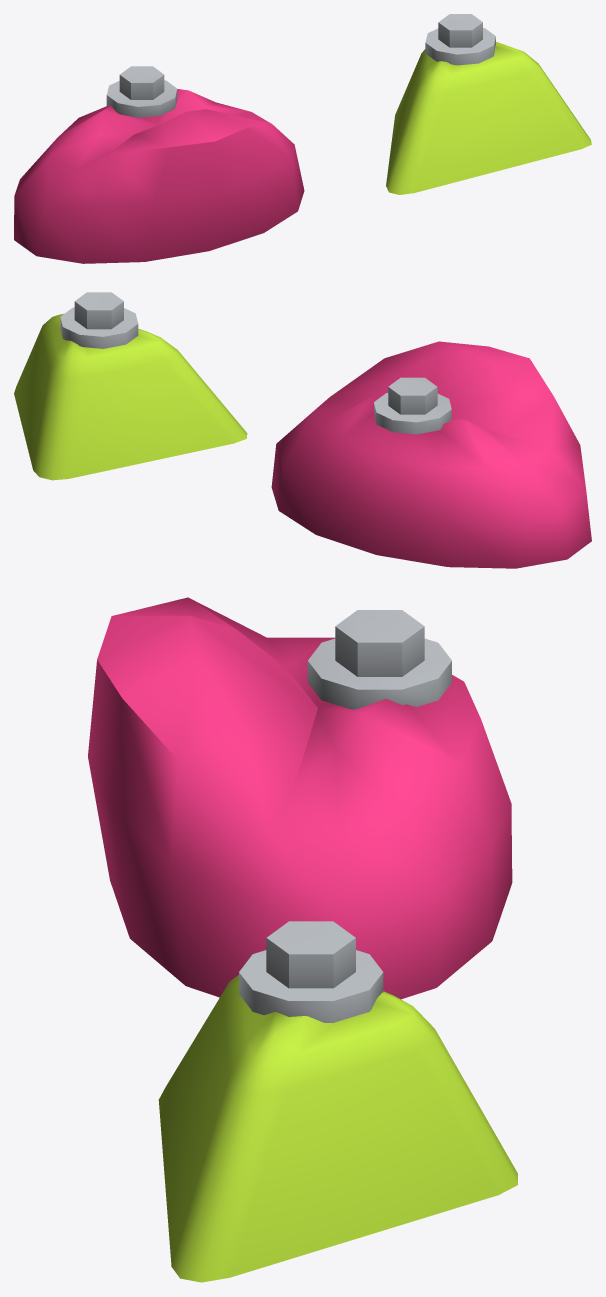
Rendered from holds.glb.
3 renders of one model, top to bottom at view 1: azimuth 30°, elevation 25°; view 2: azimuth 150°, elevation 25°; view 3: azimuth 270°, elevation 25°, orthographic. The views are drawn at different scales.
Parts seen in each view (by area): view 1: Climb holds Hold magenta, Climb holds Hold lime, Climb holds Hold bolt; view 2: Climb holds Hold magenta, Climb holds Hold lime, Climb holds Hold bolt; view 3: Climb holds Hold magenta, Climb holds Hold lime, Climb holds Hold bolt.
Part boxes in pixels (x1,y1,x2,y2): Climb holds Hold magenta: (14,89,304,263); Climb holds Hold lime: (386,42,591,194); Climb holds Hold bolt: (106,14,495,117); Climb holds Hold magenta: (271,341,591,568); Climb holds Hold lime: (14,313,247,480); Climb holds Hold bolt: (60,292,451,434); Climb holds Hold magenta: (88,597,512,999); Climb holds Hold lime: (158,975,517,1282); Climb holds Hold bolt: (239,610,451,1022).
Size of the model in its own units: 0.723 by 0.1681 by 0.2503.
